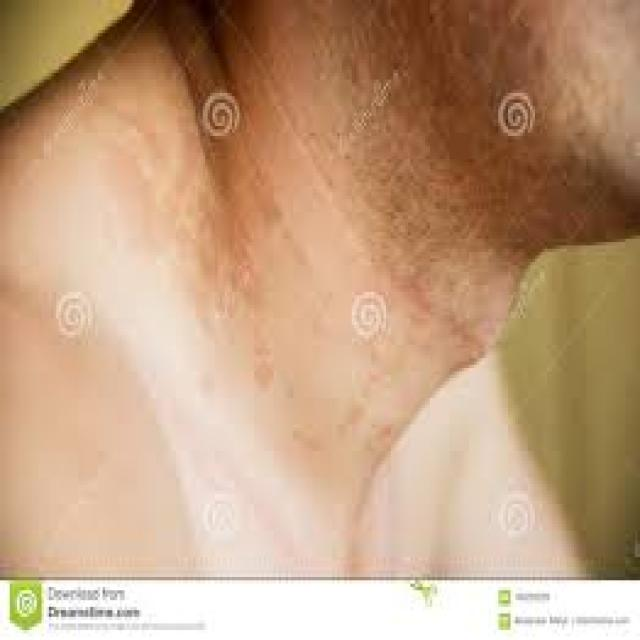Acanthosis Nigricans: (195, 4, 504, 549)
